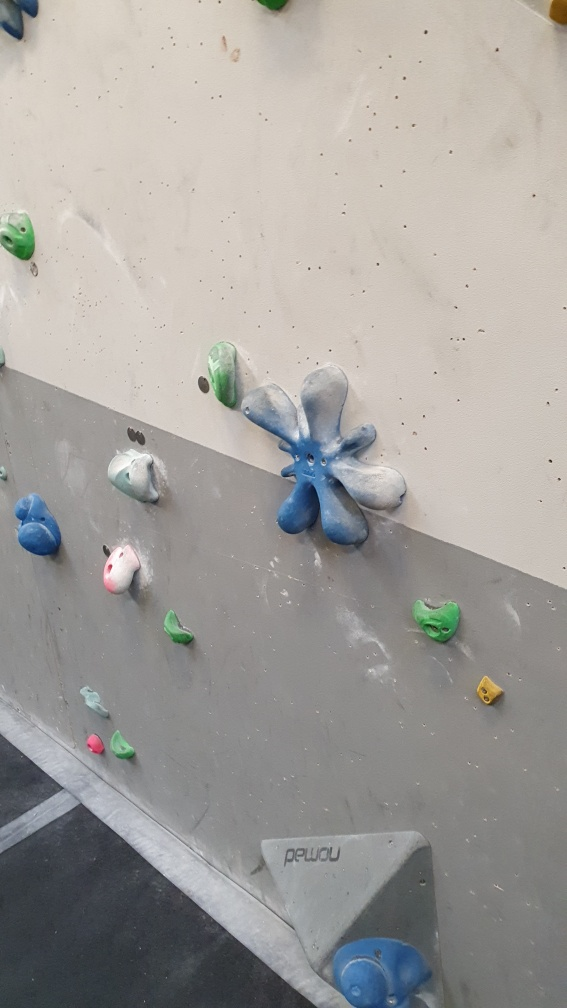Jug: (205, 337, 246, 413), (408, 595, 464, 646), (120, 448, 162, 507), (101, 545, 145, 597), (154, 611, 200, 648)
Octopus Pinch: (240, 365, 411, 550)
Sloper: (332, 934, 435, 1005), (10, 486, 65, 560)
